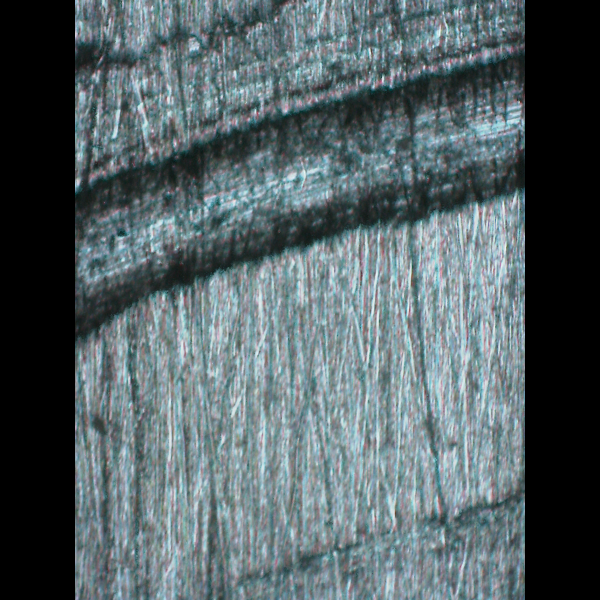d: (75, 0, 523, 360)
